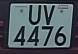4: (24, 24, 42, 47), (12, 24, 27, 46)
6: (54, 25, 68, 49)
7: (39, 24, 54, 47)
U: (26, 4, 43, 28)
V: (42, 4, 57, 27)
